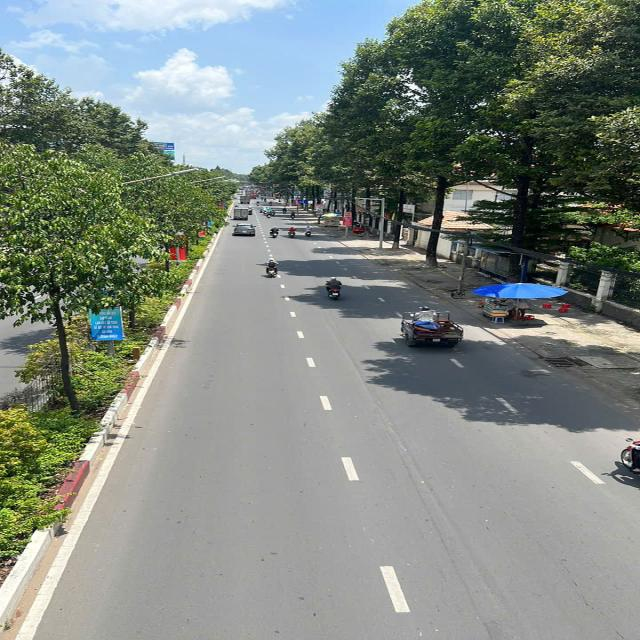ben: (231, 204, 253, 222)
car: (231, 222, 259, 238)
motobyte: (320, 275, 350, 305), (262, 255, 284, 281), (286, 223, 298, 239), (303, 224, 315, 240), (270, 225, 282, 239)
